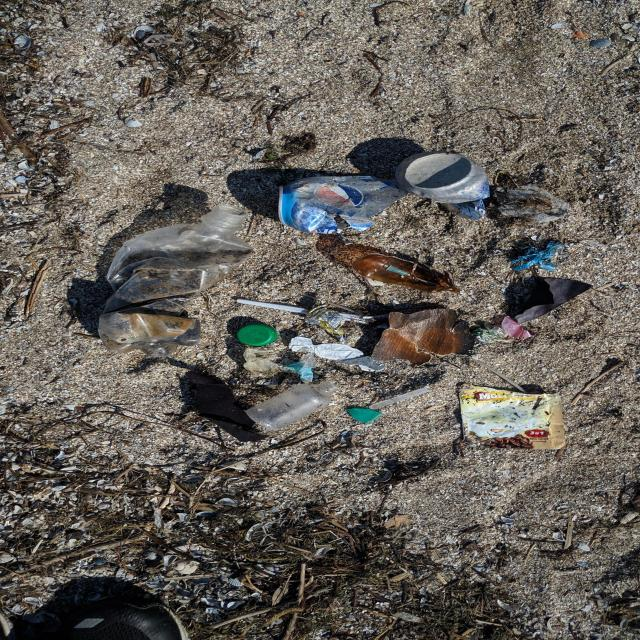litter: (56, 146, 598, 501)
